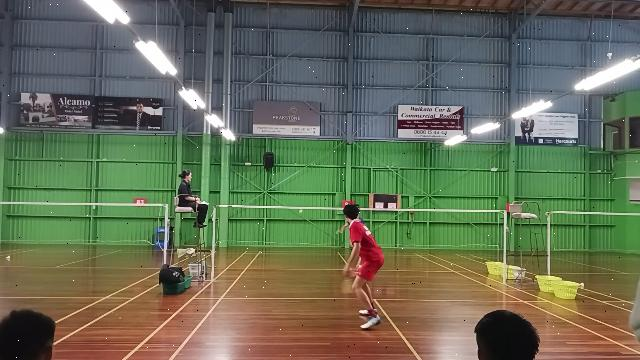Shuttlecock: (295, 207, 305, 216)
